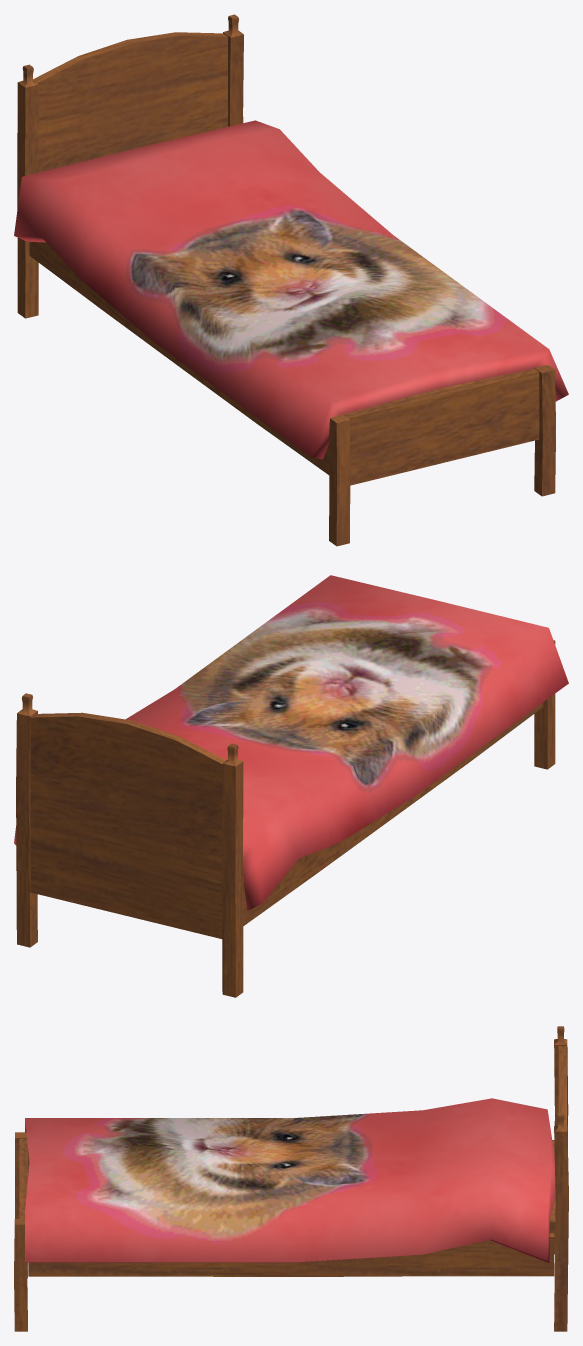
Rendered from bed.fbx.
The picture shows the model from 3 angles, top to bottom: view 1: azimuth 30°, elevation 25°; view 2: azimuth 150°, elevation 25°; view 3: azimuth 270°, elevation 25°; orthographic projection. The views are drawn at different scales.
Visible parts, largest first — view 1: bed; view 2: bed; view 3: bed.
Boxes of the visible parts, x1,y1,x2,y2 form: bed: (14, 14, 568, 546); bed: (14, 575, 568, 997); bed: (14, 1026, 568, 1331).
Size of the model in its own units: 2064 by 4445 by 1895.
